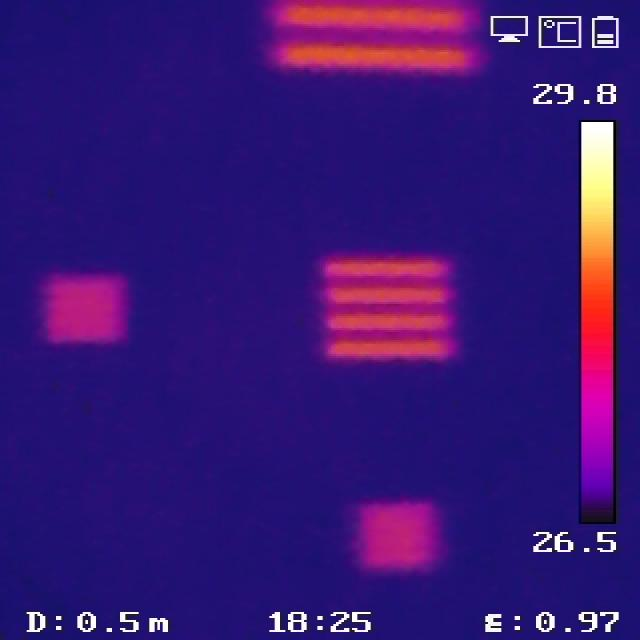Distinguishable 4-bar target: (307, 256, 460, 362)
Indistinguishable 4-bar target: (49, 271, 130, 342), (364, 497, 444, 566)
threshold 4-bar target: (272, 0, 488, 74)
